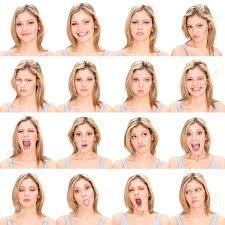white_female: (65, 4, 101, 46)
